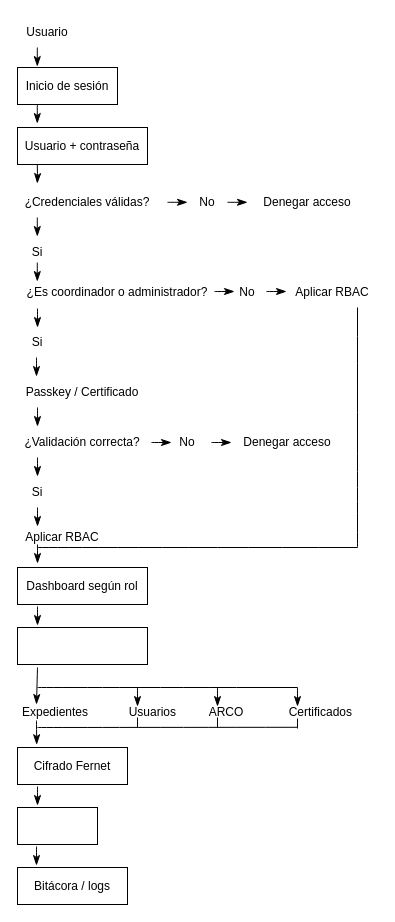
Some shapes in this 395 by 922 pixel diagram are drawn without their labels. Here are the shapes that lost their labels. From the top down, the centre of each, then its label:
At (x=82, y=645): "Módulos del sistema".
At (x=57, y=825): "SQLite".
